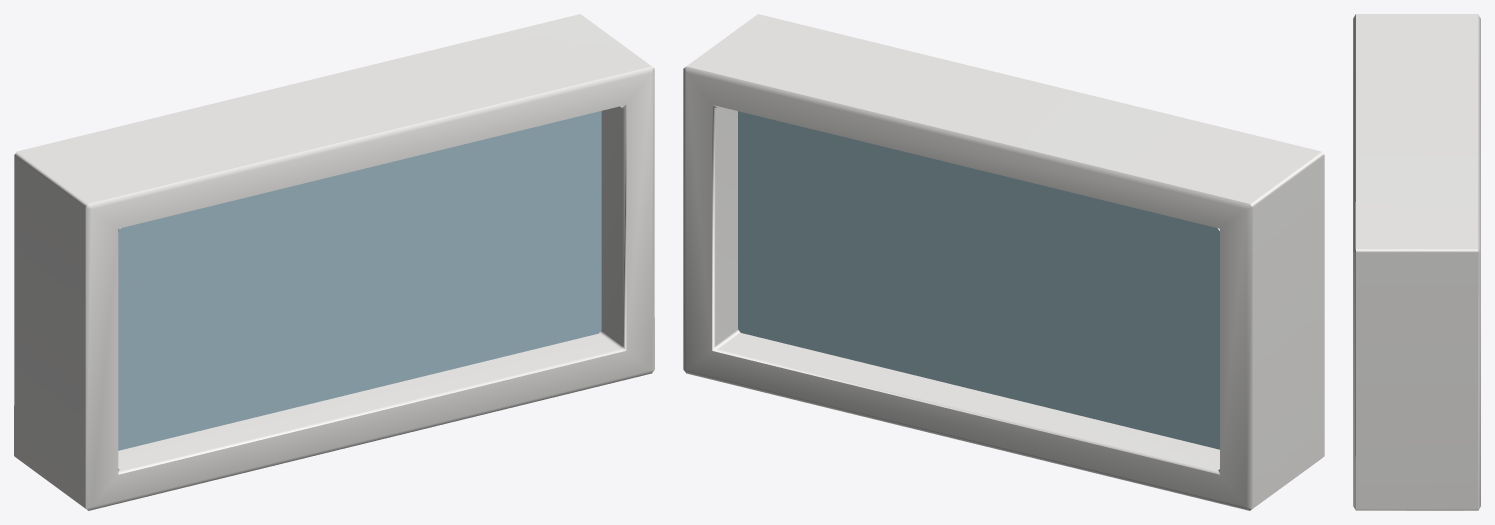
Rendered from Window_5.glb.
The picture shows the model from 3 angles, left to right: view 1: azimuth 30°, elevation 25°; view 2: azimuth 150°, elevation 25°; view 3: azimuth 270°, elevation 25°; orthographic projection. The views are drawn at different scales.
Visible parts, largest first — view 1: Window_5; view 2: Window_5; view 3: Window_5.
Boxes of the visible parts, x1,y1,x2,y2 form: Window_5: (14,14,654,510); Window_5: (683,14,1324,510); Window_5: (1353,14,1480,510).
Size of the model in its own units: 2.31 by 1.19 by 0.5258.
Materials: 2 (2 with a texture image).
